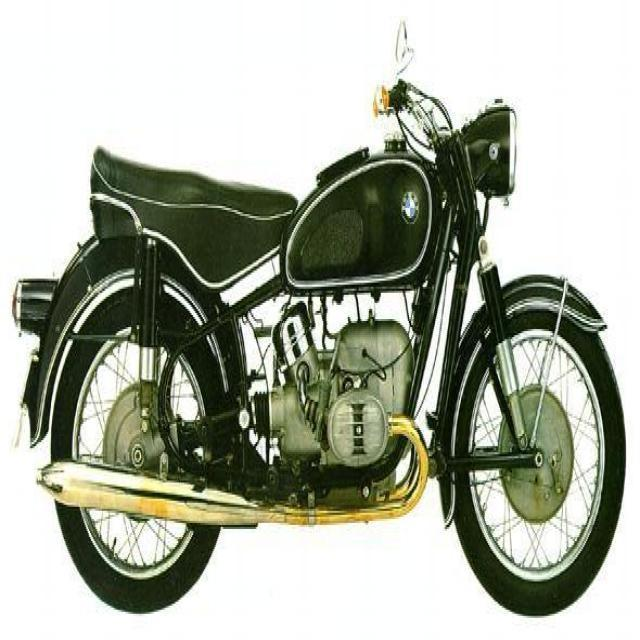Motorcycle: (13, 45, 632, 623)
